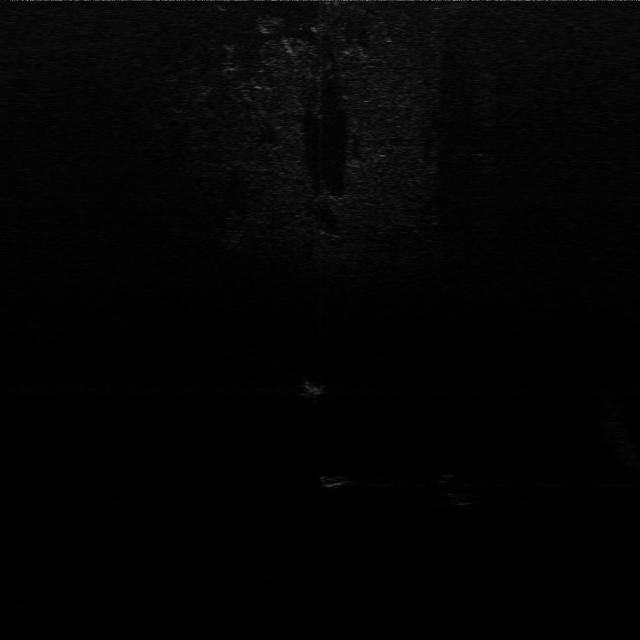cube: (310, 464, 354, 491)
square cage: (292, 371, 339, 398)
tyre: (433, 466, 478, 507)
